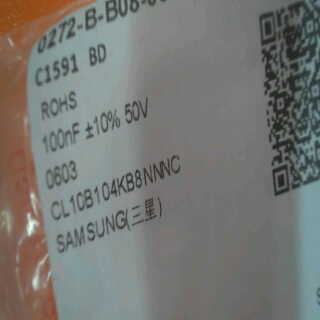100nF: (34, 112, 86, 155)
